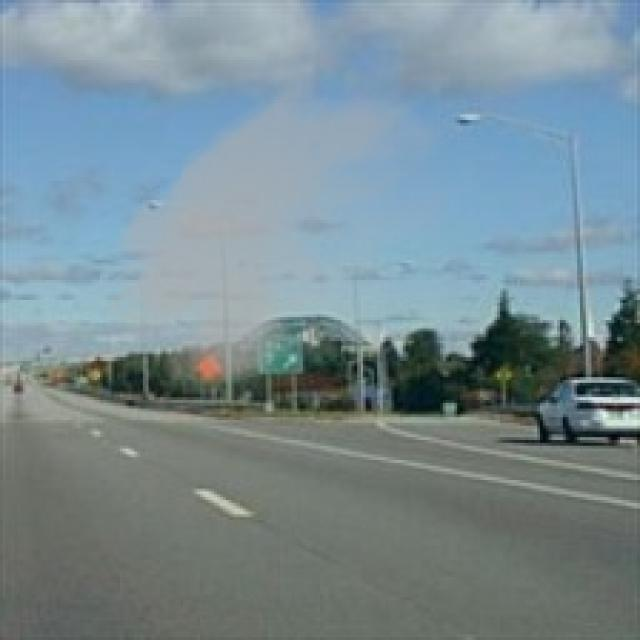smoke: (89, 43, 497, 423)
